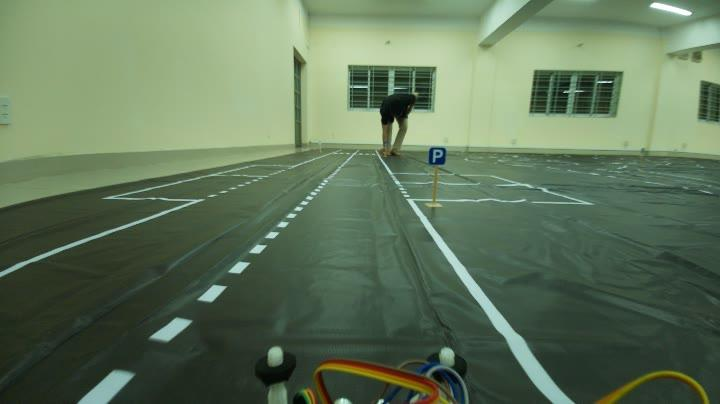parking: (424, 142, 450, 169)
